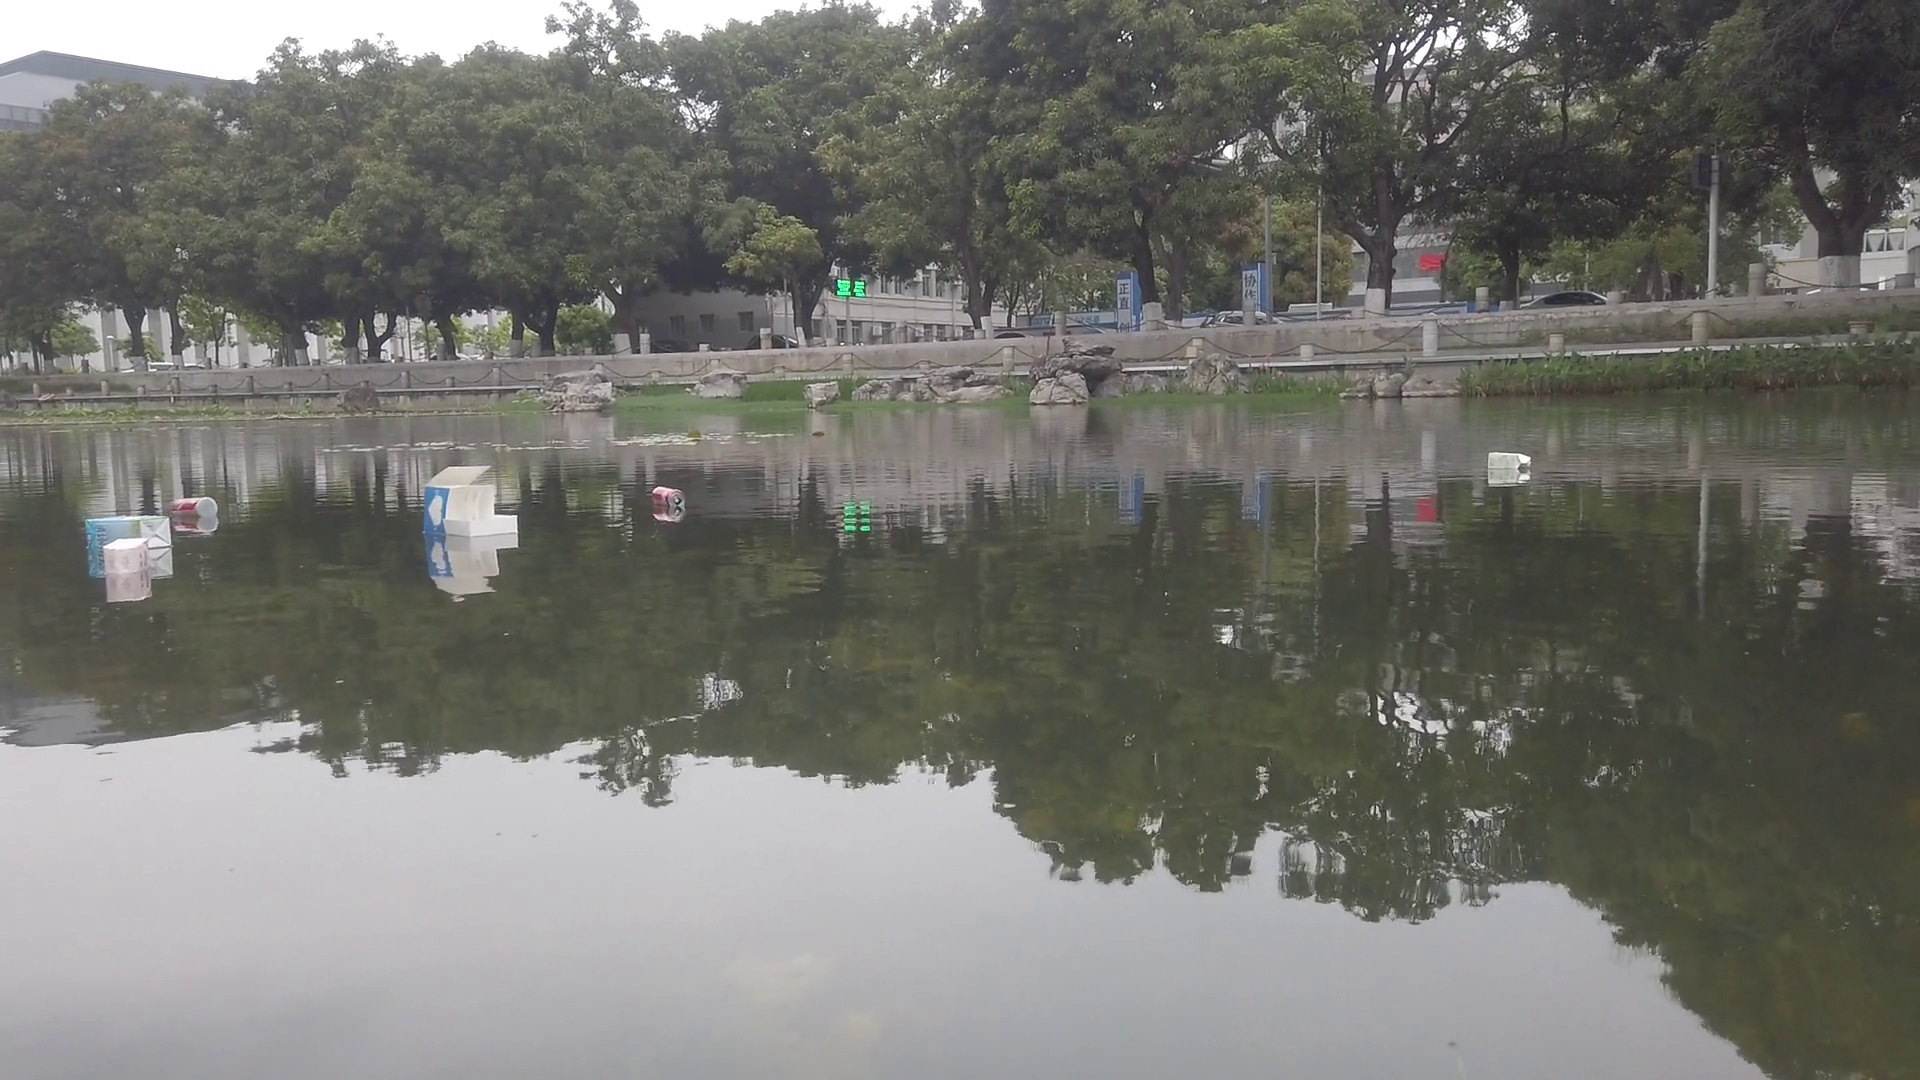bottle: (167, 496, 220, 520), (649, 487, 684, 512)
carton: (422, 463, 521, 539), (80, 517, 175, 550), (103, 534, 149, 578), (1486, 450, 1530, 471)
